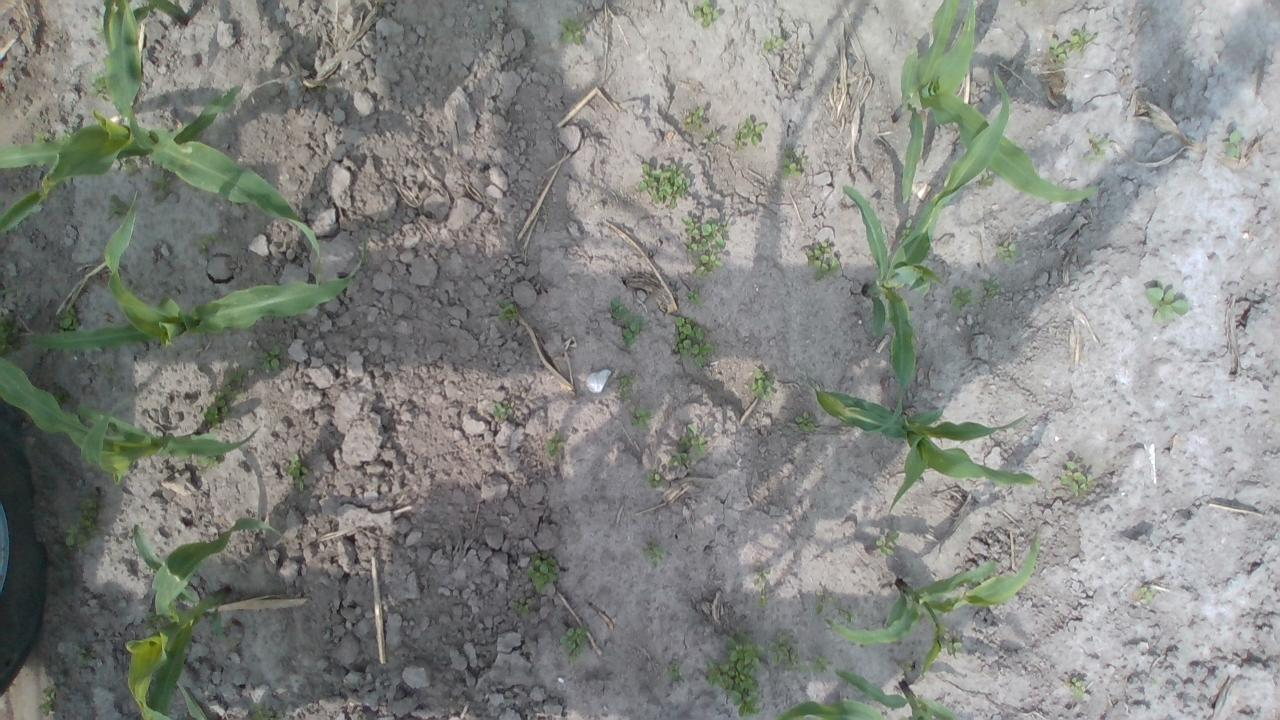Maize: (0, 0, 322, 257), (34, 194, 368, 350), (0, 286, 258, 474), (892, 0, 1102, 207), (124, 515, 286, 720), (812, 376, 1042, 514), (831, 532, 1038, 676), (840, 182, 946, 438), (774, 663, 958, 720), (132, 0, 194, 29)
Weeds: (706, 628, 766, 718), (680, 212, 731, 278), (638, 160, 690, 209), (674, 315, 716, 370), (608, 300, 650, 352), (1144, 283, 1190, 322), (804, 240, 839, 282), (527, 551, 559, 595), (200, 390, 232, 430), (1058, 459, 1090, 496), (560, 624, 589, 664), (767, 638, 800, 673), (79, 495, 102, 536), (750, 366, 777, 400), (680, 422, 706, 457), (258, 344, 288, 374), (781, 146, 809, 177), (734, 117, 764, 145), (86, 72, 112, 104), (288, 453, 309, 492), (872, 530, 899, 560), (63, 521, 88, 553), (692, 0, 720, 28), (979, 276, 1006, 304), (644, 542, 671, 569), (1068, 30, 1096, 56), (195, 232, 225, 256), (951, 286, 976, 314), (223, 369, 247, 398), (560, 16, 584, 44), (1085, 133, 1107, 162), (752, 570, 769, 607), (1223, 129, 1243, 160), (1047, 36, 1069, 64), (996, 239, 1021, 263), (800, 656, 833, 674), (542, 430, 564, 456), (150, 168, 173, 192), (683, 105, 705, 130), (58, 307, 80, 332), (36, 688, 56, 714), (107, 194, 128, 218), (496, 300, 520, 321), (630, 406, 651, 429), (794, 412, 816, 432), (250, 702, 274, 720), (107, 466, 127, 486), (615, 374, 634, 395), (512, 596, 530, 618), (670, 446, 689, 466), (644, 470, 665, 488), (142, 611, 160, 632), (492, 400, 514, 417), (1069, 676, 1085, 699), (816, 594, 834, 614), (762, 34, 784, 50), (1136, 586, 1154, 605), (944, 639, 961, 659), (120, 158, 138, 175), (686, 289, 704, 306), (976, 170, 993, 188), (668, 660, 683, 680), (32, 130, 52, 145), (76, 648, 90, 669), (198, 456, 220, 467), (82, 346, 106, 356), (100, 365, 114, 380), (58, 129, 72, 143), (901, 660, 913, 676), (844, 610, 858, 622)
